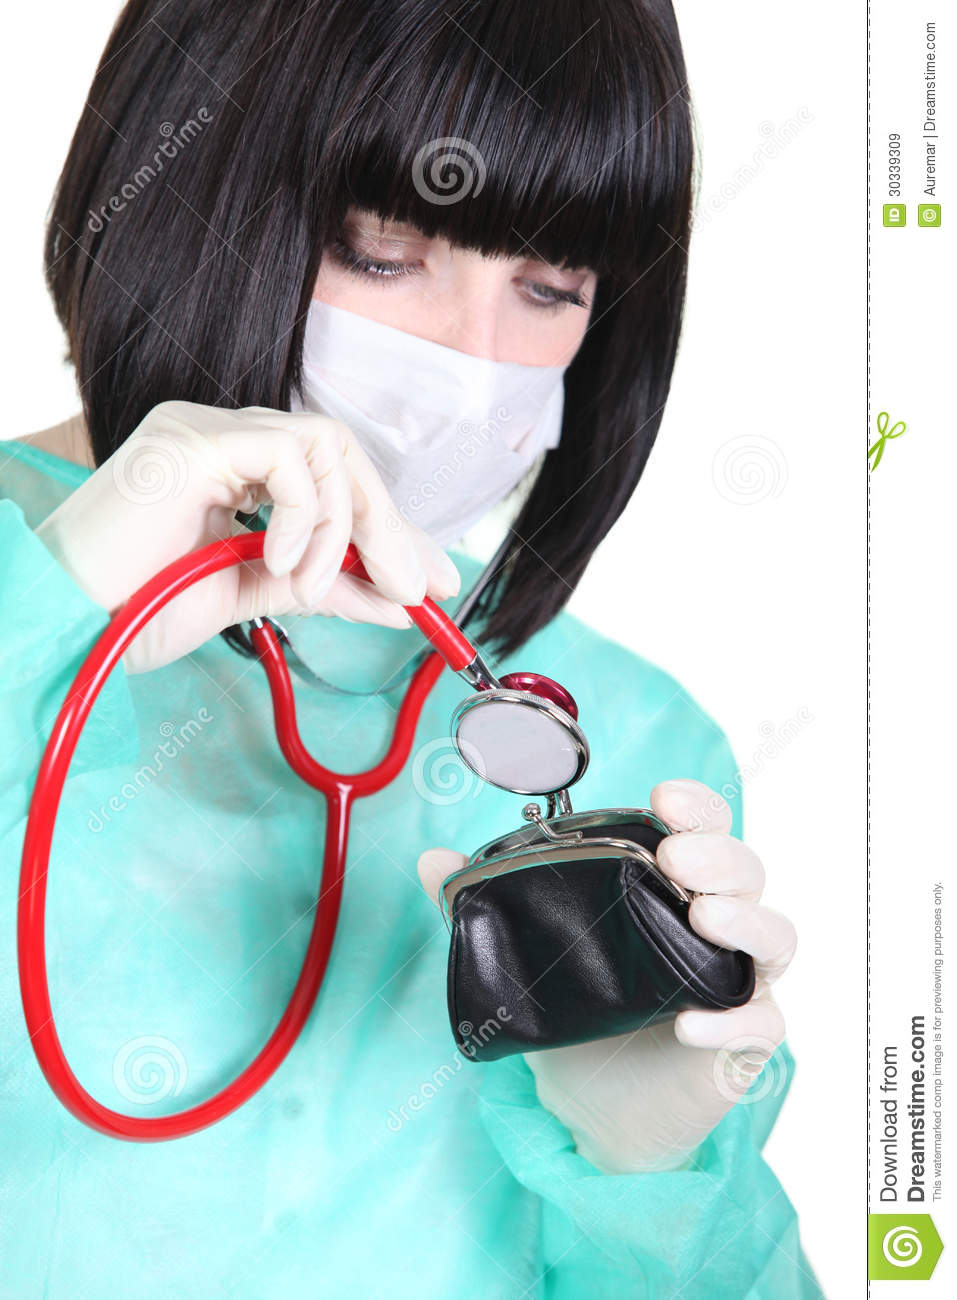mask: (274, 317, 586, 535)
